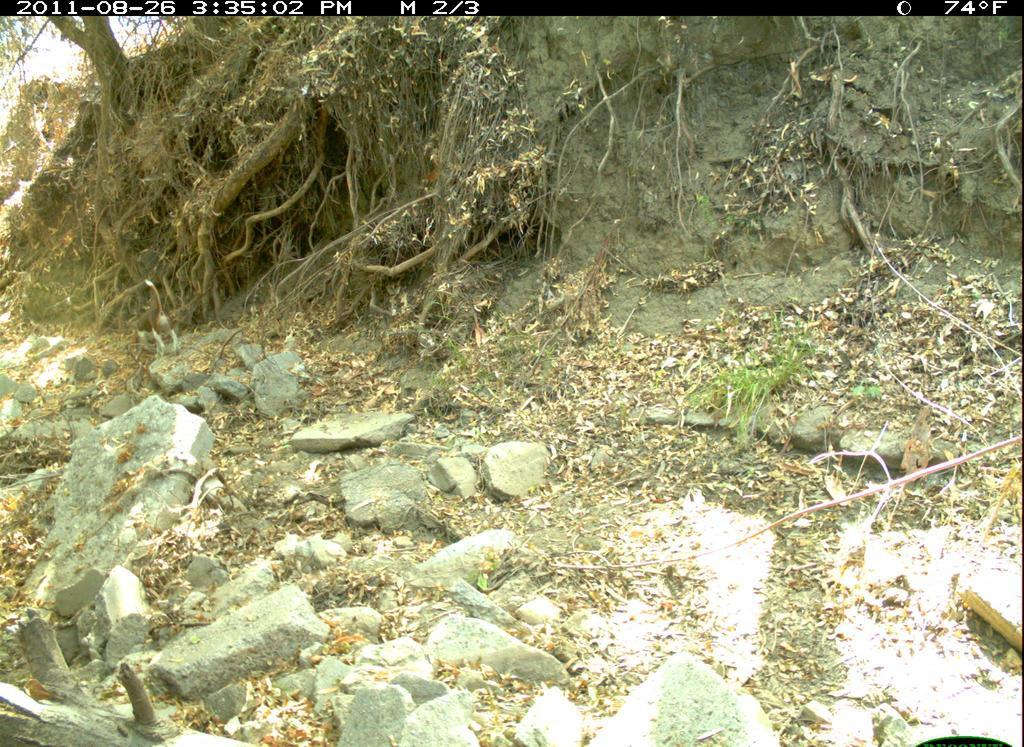dog: (117, 267, 193, 376)
